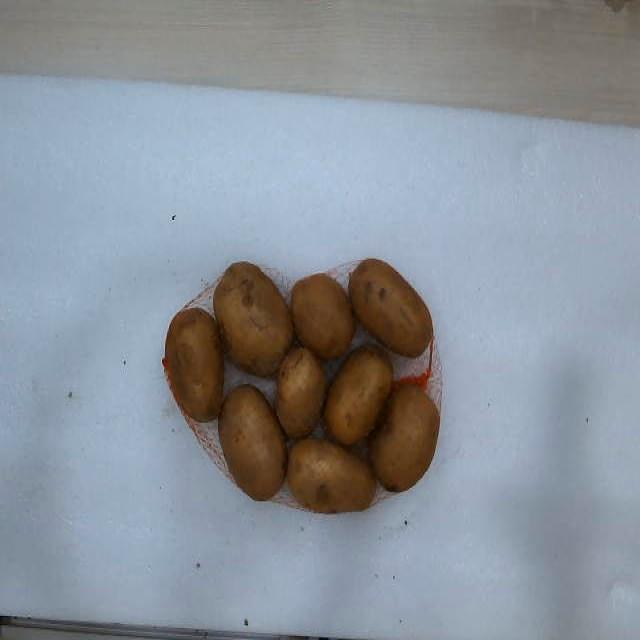potato: (214, 262, 294, 377), (349, 258, 432, 356), (369, 383, 440, 492), (219, 385, 285, 501), (324, 345, 392, 445), (165, 310, 224, 422), (288, 440, 376, 512), (291, 273, 355, 359), (276, 347, 326, 438)
